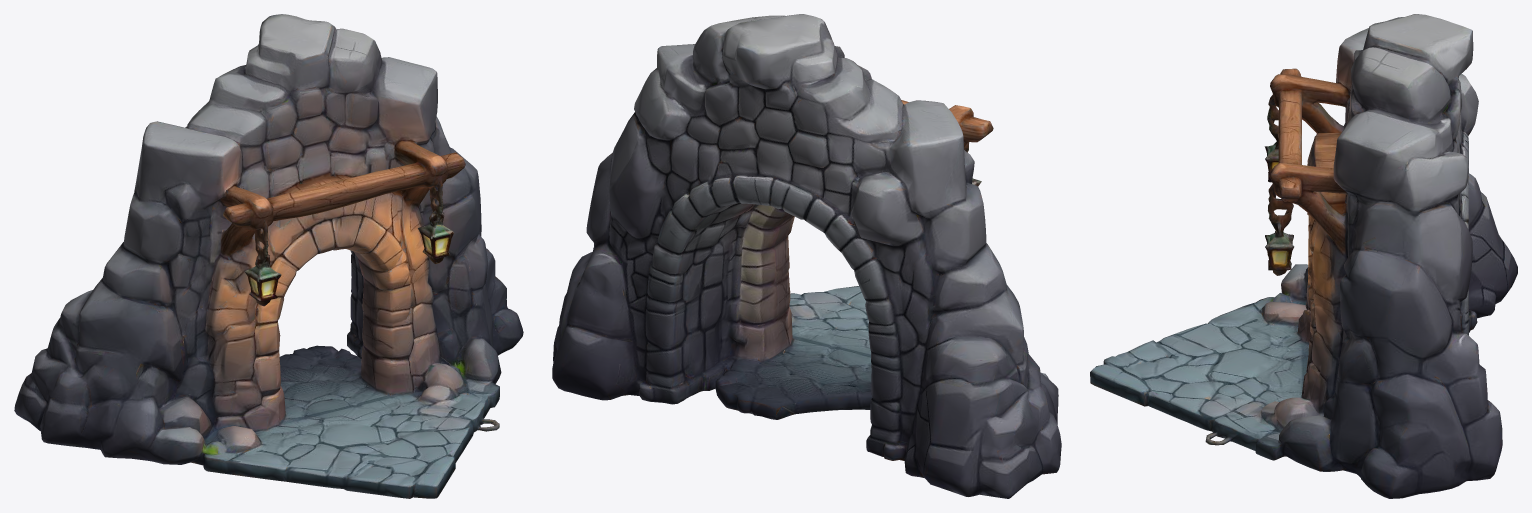
File: tunnel_entrance.glb
The picture shows the model from 3 angles, left to right: view 1: azimuth 30°, elevation 25°; view 2: azimuth 150°, elevation 25°; view 3: azimuth 270°, elevation 25°; orthographic projection. The views are drawn at different scales.
Visible parts, largest first — view 1: Mesh_0; view 2: Mesh_0; view 3: Mesh_0.
Boxes of the visible parts, bbox=[...] form: Mesh_0: bbox=[14, 14, 523, 498]; Mesh_0: bbox=[552, 14, 1061, 498]; Mesh_0: bbox=[1090, 14, 1517, 498].
Bounding box in the file's own units: 1.91 × 1.35 × 1.44.
Materials: 1 (1 with a texture image).
